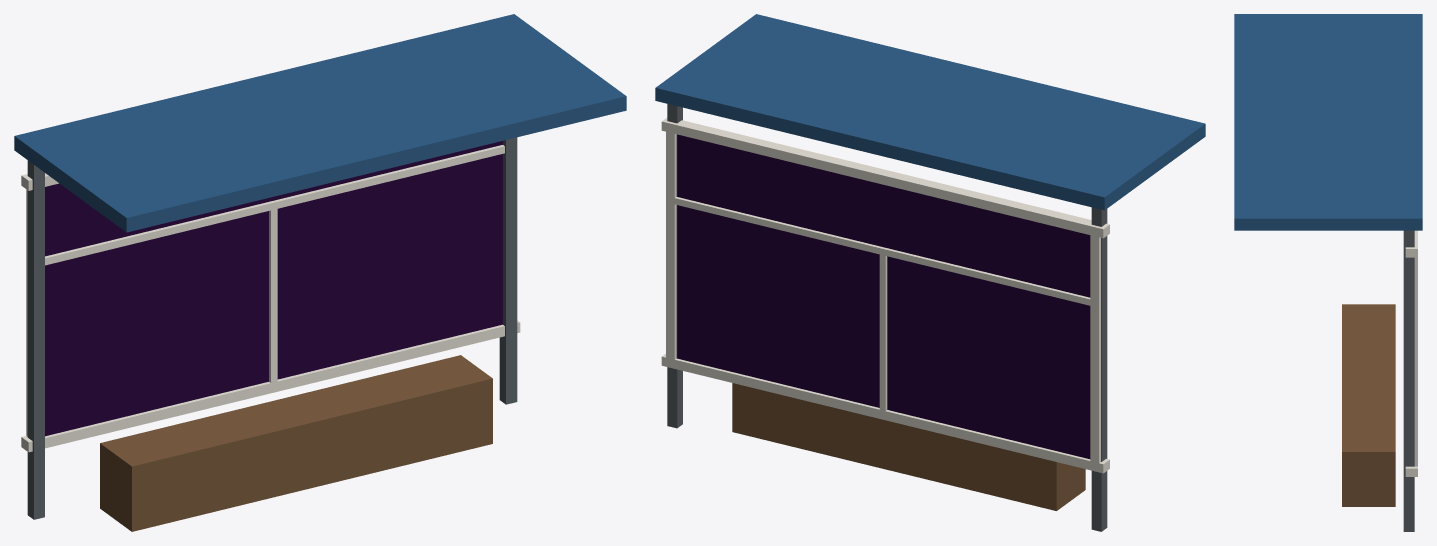
Rendered from busstop.glb.
3 views of the same model, side by side, from view 1: azimuth 30°, elevation 25°; view 2: azimuth 150°, elevation 25°; view 3: azimuth 270°, elevation 25° (orthographic). The views are drawn at different scales.
Parts seen in each view (by area): view 1: busstop; view 2: busstop; view 3: busstop.
Boxes of the visible parts, x1=… form: busstop: x1=14, y1=14, x2=626, y2=531; busstop: x1=655, y1=14, x2=1205, y2=531; busstop: x1=1234, y1=14, x2=1422, y2=531.
Bounding box in the file's own units: 3.6 × 2.6 × 1.4.
